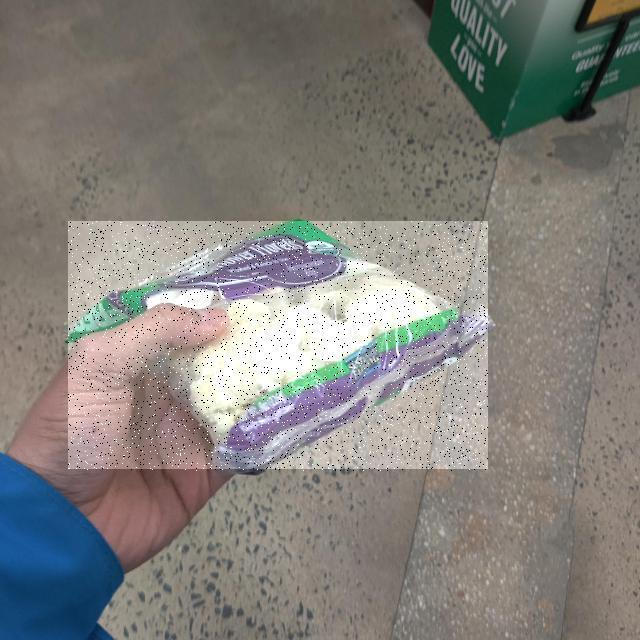Cauliflower: (68, 222, 488, 472)
